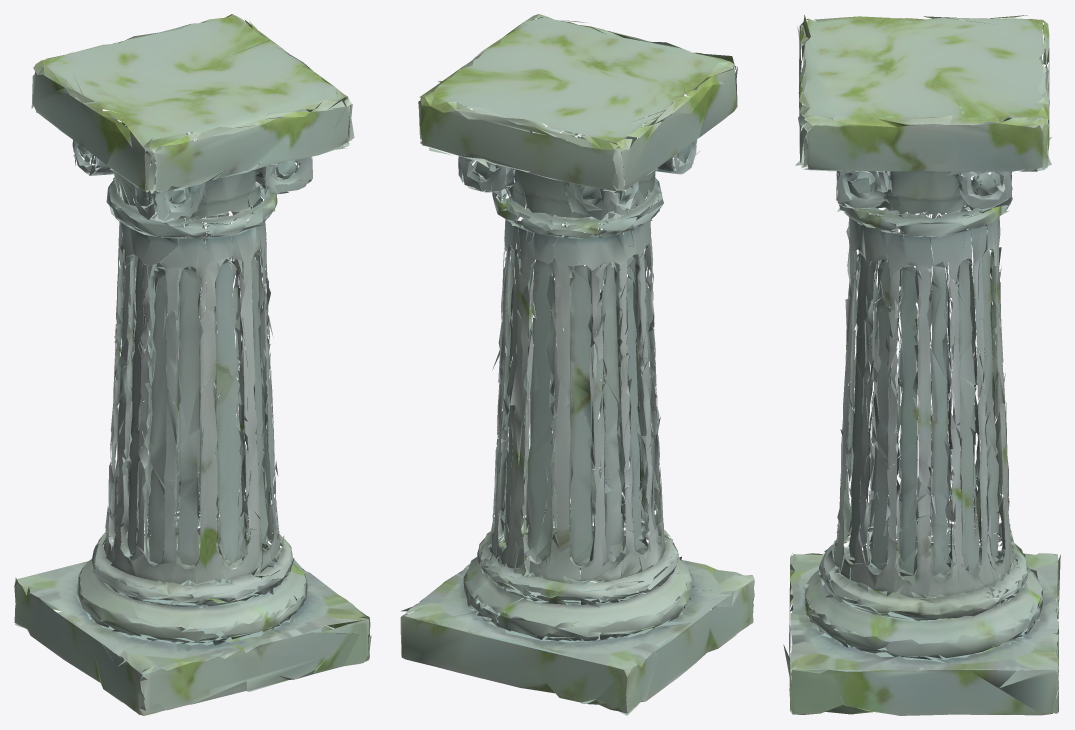
The model's file is Lab_Column.glb.
The picture shows the model from 3 angles, left to right: view 1: azimuth 30°, elevation 25°; view 2: azimuth 150°, elevation 25°; view 3: azimuth 270°, elevation 25°; orthographic projection. The views are drawn at different scales.
Visible parts, largest first — view 1: Lab_Column; view 2: Lab_Column; view 3: Lab_Column.
Boxes of the visible parts, x1,y1,x2,y2 form: Lab_Column: (14,14,371,715); Lab_Column: (400,14,754,715); Lab_Column: (783,15,1060,715).
Bounding box in the file's own units: 1.29 × 3.03 × 1.28.
Materials: 1 (1 with a texture image).
